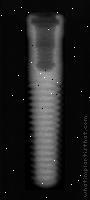Implant Direct: (24, 11, 65, 190)
